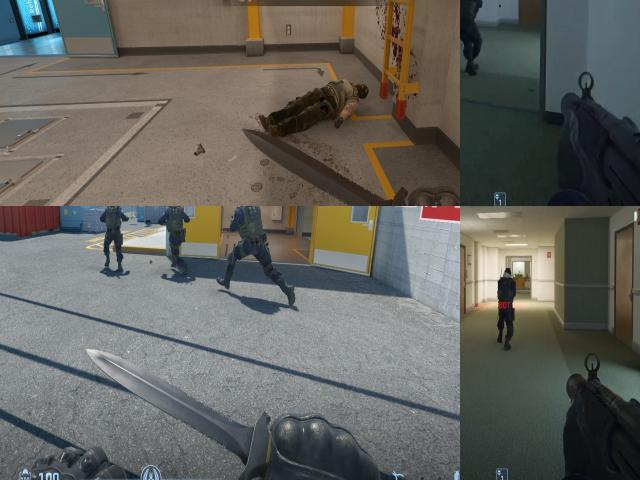CT: (232, 206, 267, 288), (159, 206, 189, 275), (104, 206, 124, 271), (495, 264, 516, 312), (460, 0, 483, 32)
CT-Head: (500, 266, 513, 282)
Dead: (254, 67, 374, 144)
